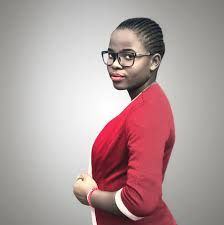no-mask: (97, 14, 169, 89)
